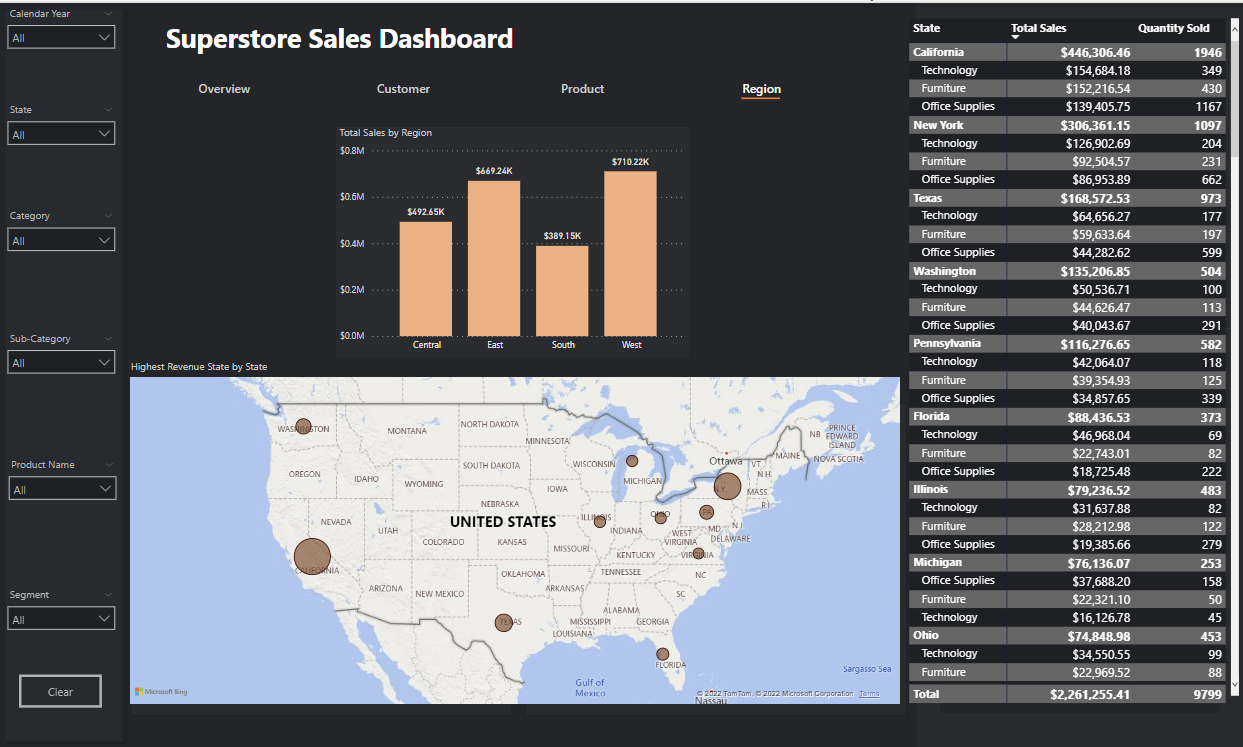

What the dashboard file says about the page in this screenshot:
{"tool":"powerbi","page":{"name":"Region","canvas":[1500,900],"ordinal":3},"visuals":[{"type":"textbox","box":[196.7,16.7,508.3,228.3],"z":0},{"type":"pageNavigator","box":[169,80.5,856.2,49.9],"z":1000},{"type":"shape","box":[894.8,30.6,46.7,172.2],"z":2000},{"type":"columnChart","fields":{"Category":["DIM-region.Region","DIM-region.Country","DIM-region.State","DIM-region.City"],"Y":["FACT-sales.Total Sales"]},"box":[405.6,149.7,428.1,281.7],"z":3000},{"type":"map","fields":{"Category":["DIM-region.State"],"Size":["DIM-region.Highest Revenue State"]},"box":[154.5,431.3,938.3,420.1],"z":4000},{"type":"pivotTable","fields":{"Rows":["DIM-region.State","DIM-products.Category","DIM-products.Sub-Category"],"Values":["FACT-sales.Total Sales","FACT-sales.Quantity Sold"]},"box":[1092.8,14.5,407.2,835.3],"z":5000},{"type":"slicer","fields":{"Values":["Date.Calendar Year"]},"box":[0,0,149.7,115.9],"z":6000},{"type":"slicer","fields":{"Values":["DIM-region.State"]},"box":[0,115.9,149.7,115.9],"z":7000},{"type":"slicer","fields":{"Values":["DIM-products.Category"]},"box":[0,244.6,149.7,115.9],"z":8000},{"type":"slicer","fields":{"Values":["DIM-products.Sub-Category"]},"box":[0,392.7,149.7,115.9],"z":9000},{"type":"slicer","fields":{"Values":["DIM-products.Product Name"]},"box":[1.6,544,149.7,115.9],"z":10000},{"type":"slicer","fields":{"Values":["DIM-customers.Segment"]},"box":[0,701.7,149.7,115.9],"z":11000},{"type":"actionButton","box":[24,810.9,99.9,39.9],"z":12000}]}

Visuals, with their boxes on the page's 1500x900 design canvas (x1, y1, x2, y2). These are canvas units, not pixel positions in the 1243x747 screenshot, which may show the page scaled, cropped or inside an application window:
textbox: [left=197, top=17, right=705, bottom=245]
pageNavigator: [left=169, top=80, right=1025, bottom=130]
shape: [left=895, top=31, right=942, bottom=203]
columnChart - DIM-region.Region x DIM-region.Country: [left=406, top=150, right=834, bottom=431]
map - DIM-region.State x DIM-region.Highest Revenue State: [left=154, top=431, right=1093, bottom=851]
pivotTable - DIM-region.State x DIM-products.Category: [left=1093, top=14, right=1500, bottom=850]
slicer - Date.Calendar Year: [left=0, top=0, right=150, bottom=116]
slicer - DIM-region.State: [left=0, top=116, right=150, bottom=232]
slicer - DIM-products.Category: [left=0, top=245, right=150, bottom=360]
slicer - DIM-products.Sub-Category: [left=0, top=393, right=150, bottom=509]
slicer - DIM-products.Product Name: [left=2, top=544, right=151, bottom=660]
slicer - DIM-customers.Segment: [left=0, top=702, right=150, bottom=818]
actionButton: [left=24, top=811, right=124, bottom=851]
